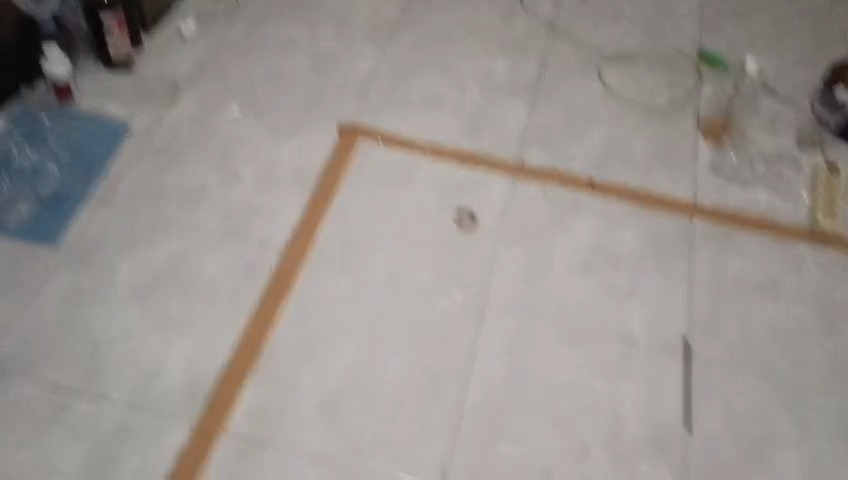floor marking: (169, 123, 847, 479)
